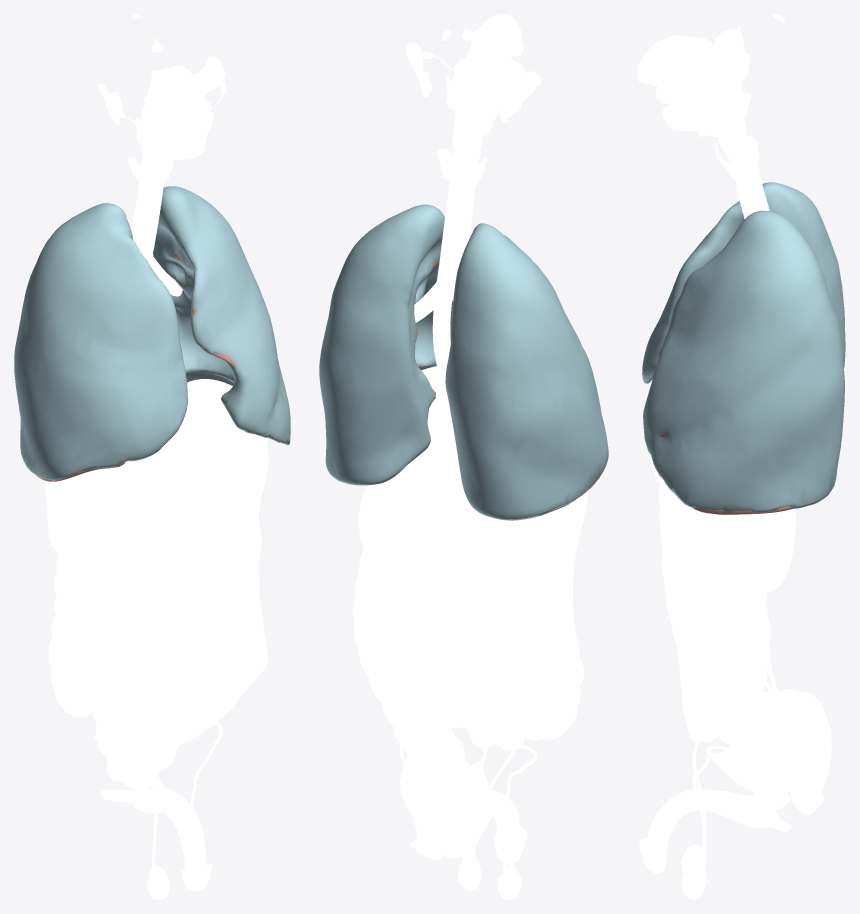
File: sys_O_q.glb
The picture shows the model from 3 angles, left to right: view 1: azimuth 30°, elevation 25°; view 2: azimuth 150°, elevation 25°; view 3: azimuth 270°, elevation 25°; orthographic projection. The views are drawn at different scales.
Parts seen in each view (by area): view 1: O71, O30, O49, O13, O88, O15, O28, O58, O111, O106, O68, O54 (+3 smaller); view 2: O71, O35, O13, O17, O86, O49, O36, O61, O37, O88, O63, O15 (+20 smaller); view 3: O71, O30, O17, O86, O15, O58, O36, O111, O28, O88, O54, O59 (+13 smaller).
Boxes of the visible parts, box(x1,y1,x2,y2) form: O71: box(14, 186, 290, 480); O30: box(65, 484, 268, 747); O49: box(44, 379, 260, 556); O13: box(48, 554, 97, 717); O88: box(170, 436, 268, 533); O15: box(101, 777, 206, 869); O28: box(135, 101, 211, 159); O58: box(159, 65, 209, 128); O111: box(102, 731, 177, 775); O106: box(133, 184, 163, 260); O68: box(191, 56, 225, 96); O54: box(49, 549, 125, 713); O71: box(319, 204, 608, 520); O35: box(391, 527, 542, 750); O13: box(518, 564, 583, 738); O17: box(354, 548, 464, 775); O86: box(400, 727, 464, 859); O49: box(421, 366, 588, 573); O36: box(358, 482, 418, 574); O61: box(432, 165, 469, 438); O37: box(486, 522, 535, 616); O88: box(407, 413, 462, 483); O63: box(451, 71, 520, 129); O15: box(409, 790, 520, 862); O71: box(642, 182, 845, 513); O30: box(659, 498, 728, 743); O17: box(715, 530, 796, 755); O86: box(787, 691, 831, 815); O15: box(646, 789, 791, 854); O58: box(637, 35, 706, 86); O36: box(755, 508, 795, 593); O111: box(710, 748, 798, 794); O28: box(655, 82, 718, 131); O88: box(658, 480, 740, 537); O54: box(720, 536, 795, 739); O59: box(705, 39, 743, 89).
Bounding box in the file's own units: 0.2634 × 0.8931 × 0.1926.
